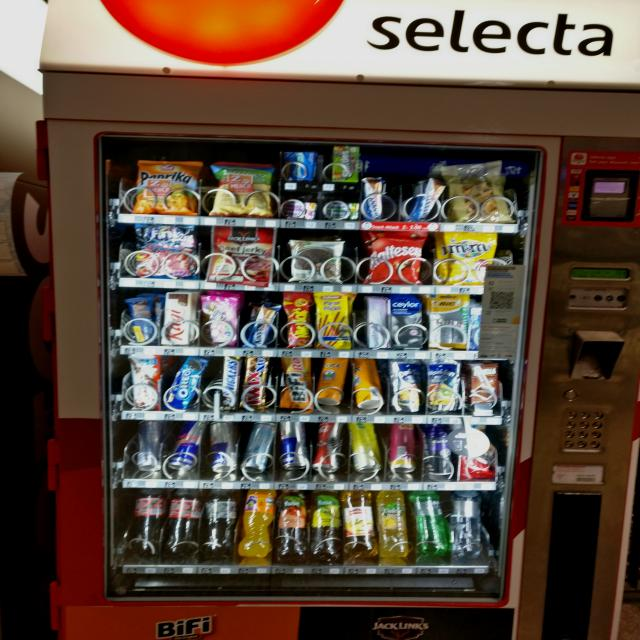7days_croissantschoko_packung_80_1_0000000000003: (462, 428, 493, 480)
airwaves_menthoneucalyptus_riegel_14_1_50173167: (288, 150, 320, 180)
bifi_roll__50__4251097402635: (282, 356, 316, 410)
bueno___43__4008400320328: (130, 353, 162, 409)
c-swiss_dosenabisicetea__33__9120025930135: (350, 357, 384, 410), (318, 356, 352, 406)
caferoyal_classicmacchiato__33__7617014164487: (425, 423, 461, 479)
caprisun_multivitamin__20__4000177605004: (425, 359, 462, 413), (390, 358, 422, 409)
coke__dose_33__54491472: (313, 420, 347, 473)
coke__flasche_50__54491472: (164, 488, 204, 552), (127, 485, 167, 548), (201, 486, 237, 553)
comella_schokodrink__33__7613100037253: (465, 360, 504, 408)
fanta___50__40822938: (242, 489, 275, 556)
fini_galaxymix_packung_100_1_8410525150364: (134, 224, 198, 275)
fini_jellykisses_packung_80_1_8410525116704: (200, 293, 239, 343)
fuse_lemon__50__5449000235947: (310, 486, 344, 560)
fuse_lemon_dose_33__5449000235947: (348, 423, 387, 471)
fuse_peach__50__5449000236623: (274, 488, 311, 560)
jacklinks_beefjerkyorginal__25__4047751730219: (209, 224, 275, 285)
jlbrichard_gauffre__90__5410495002000: (448, 161, 514, 222)
kagi___50__7610046000259: (162, 290, 192, 344)
knoppers_riegel____4035800488808: (407, 174, 449, 223), (355, 174, 387, 220), (246, 301, 278, 347)
lorenz_nicnacs__40__4018077798818: (284, 292, 318, 348)
malburner_partysticks__40__7610200279682: (314, 290, 352, 347)
maltesers___100__5000159023061: (369, 228, 425, 284)
mnms_gelb__45__40111445: (442, 230, 498, 285)
oreo___66__84100733: (165, 355, 209, 412)
powerbar_proteinplusschoko__55__4029679520028: (126, 295, 160, 345)
ramseier_schorle__50__7610057012456: (342, 490, 380, 557)
redbull___33__90162909: (245, 421, 280, 473), (168, 418, 203, 469), (208, 421, 241, 474), (134, 419, 162, 468), (282, 421, 310, 470)
skittles_sour_riegel_51_1_0000000000004: (328, 144, 363, 181)
snickers___50__5000159461122: (218, 354, 244, 411)
stimorol_spearmint_riegel_14_1_0000000000005: (324, 198, 360, 219)
stimorol_wildcherry_riegel_14_1_57060330: (286, 199, 318, 217)
tiki_himbeer_brause__50__00000000009342: (386, 423, 420, 471)
twix___50__5000159459228: (243, 354, 269, 409)
valser_classic__50__76404160: (409, 488, 449, 560)
valser_still__50__7610335002575: (448, 487, 483, 562)
volvic_pinapple__50__305764335648: (373, 488, 412, 560)
zweifel_graneochilli__100__7610095184009: (208, 156, 276, 217)
zweifel_paprika__90__7610095013002: (134, 158, 200, 215)
